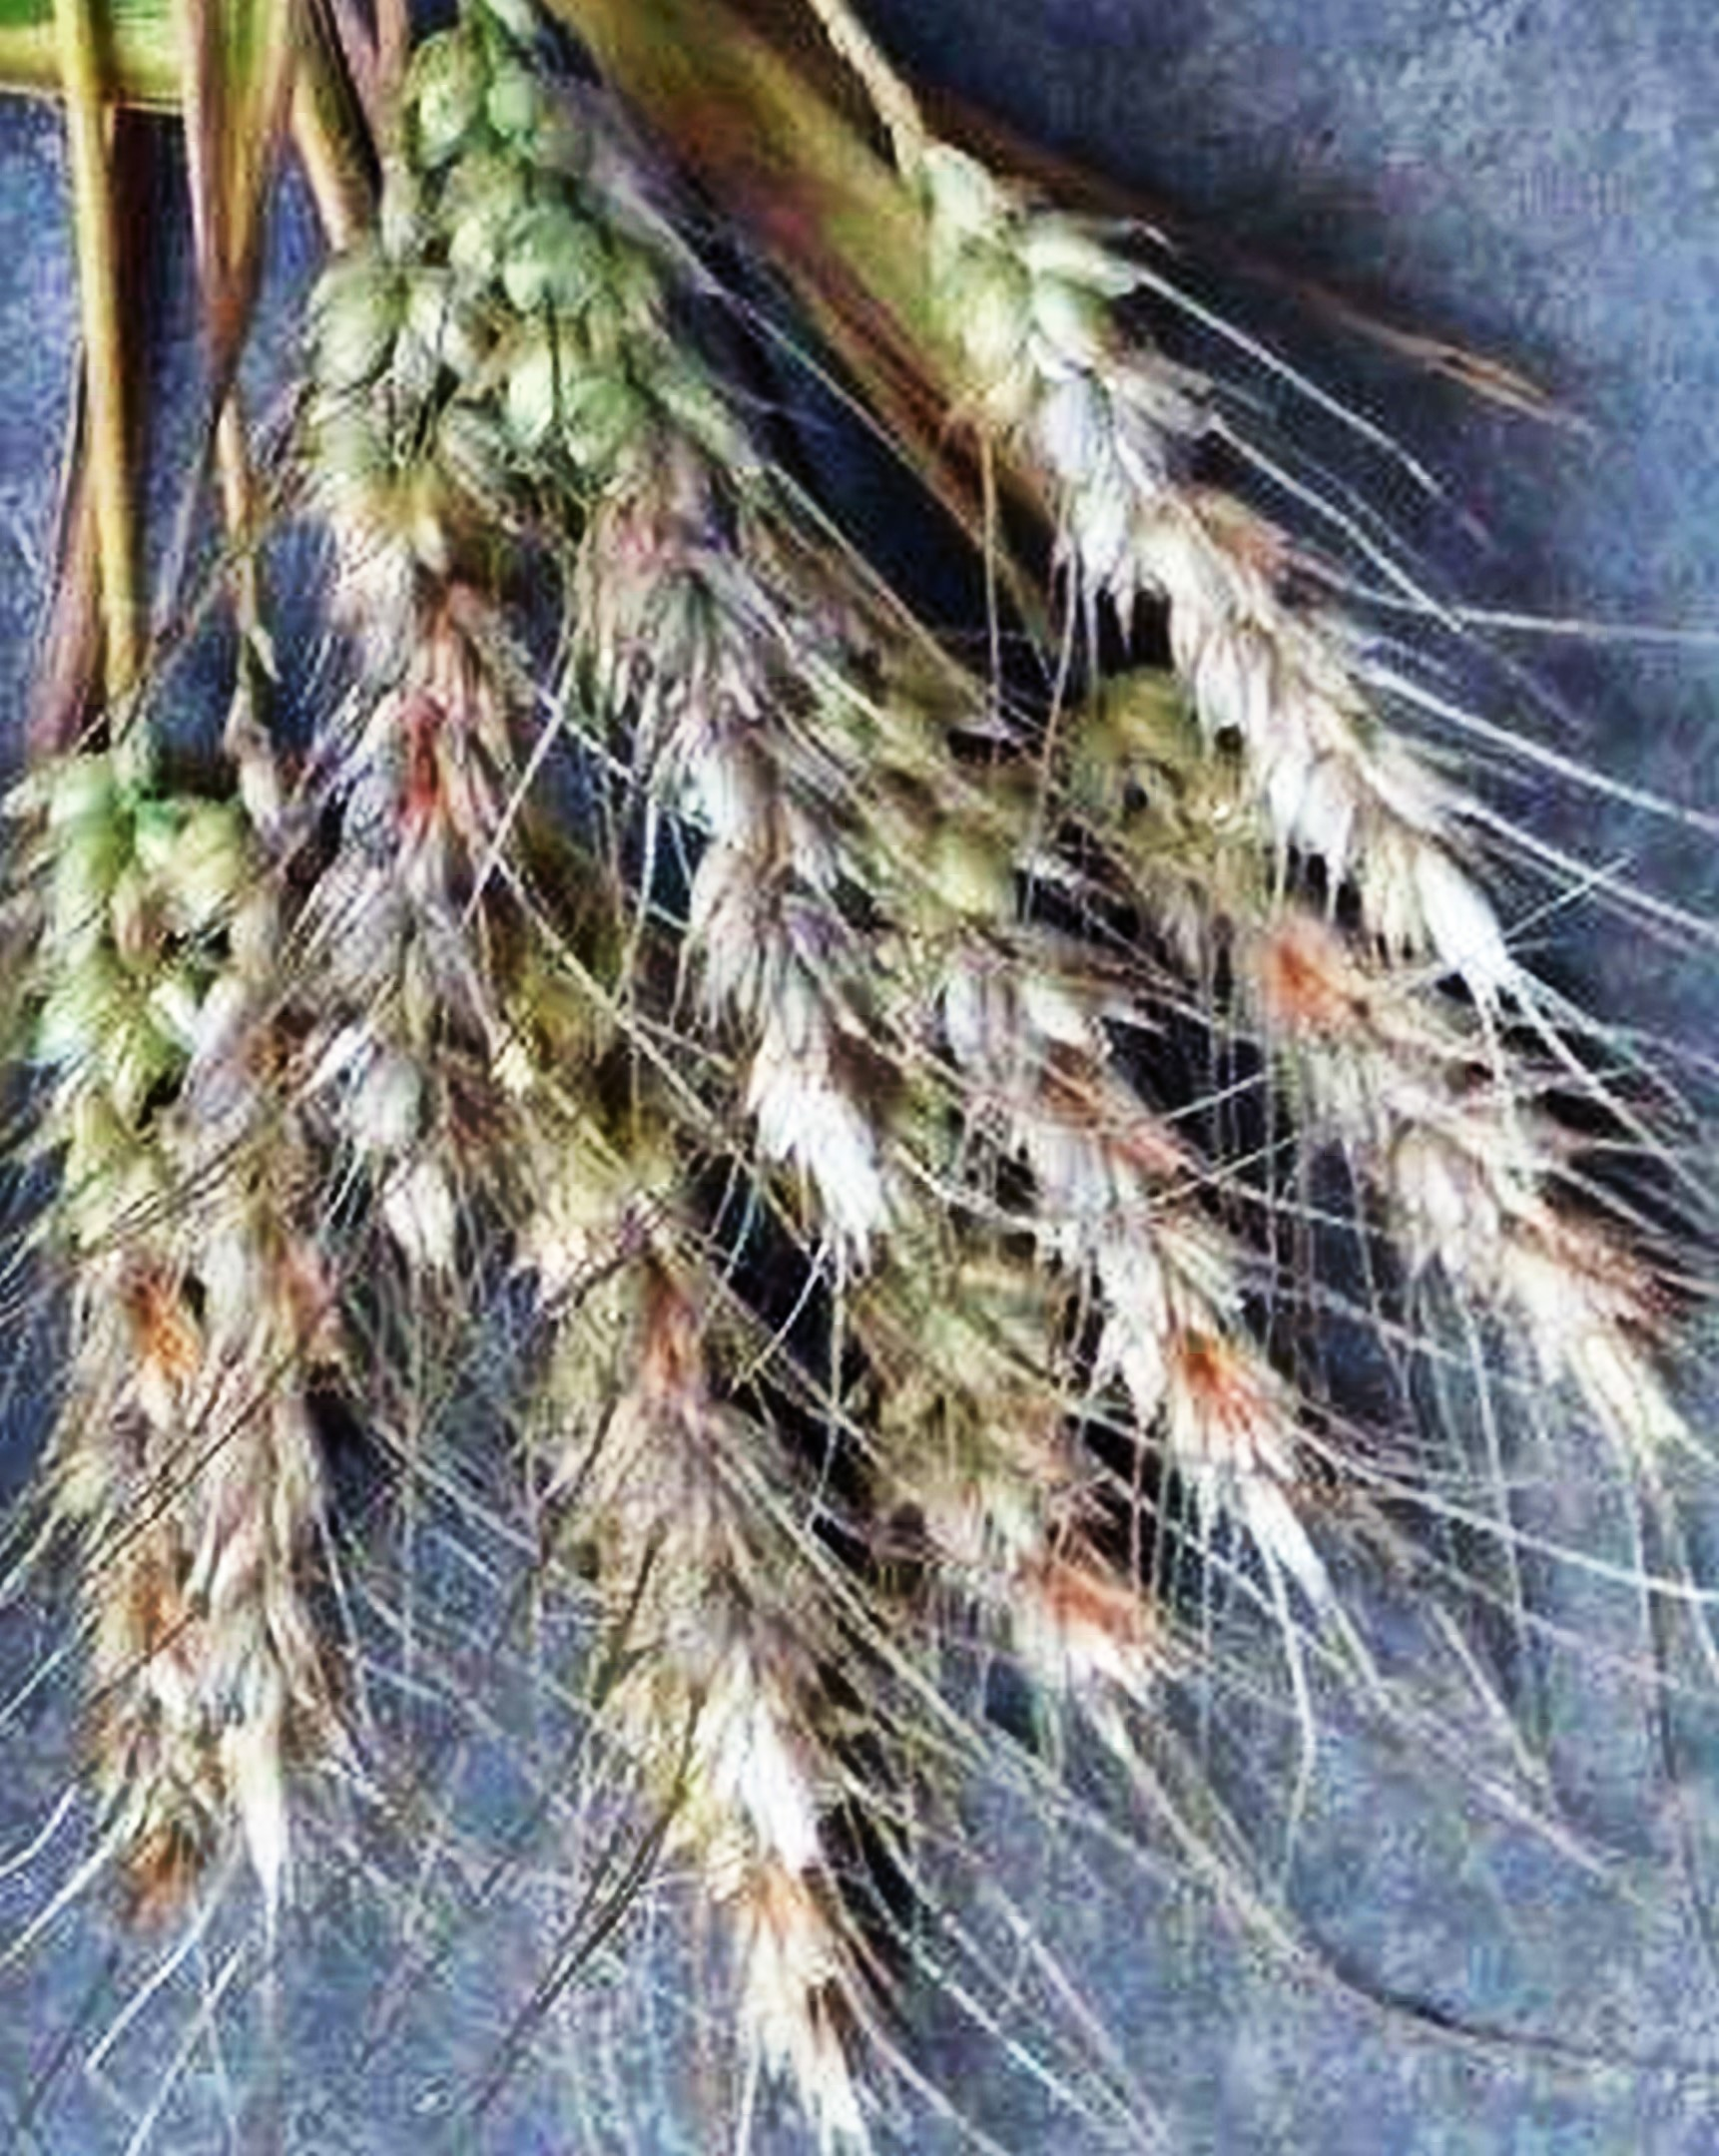Wheat scab: (895, 135, 1621, 979)
